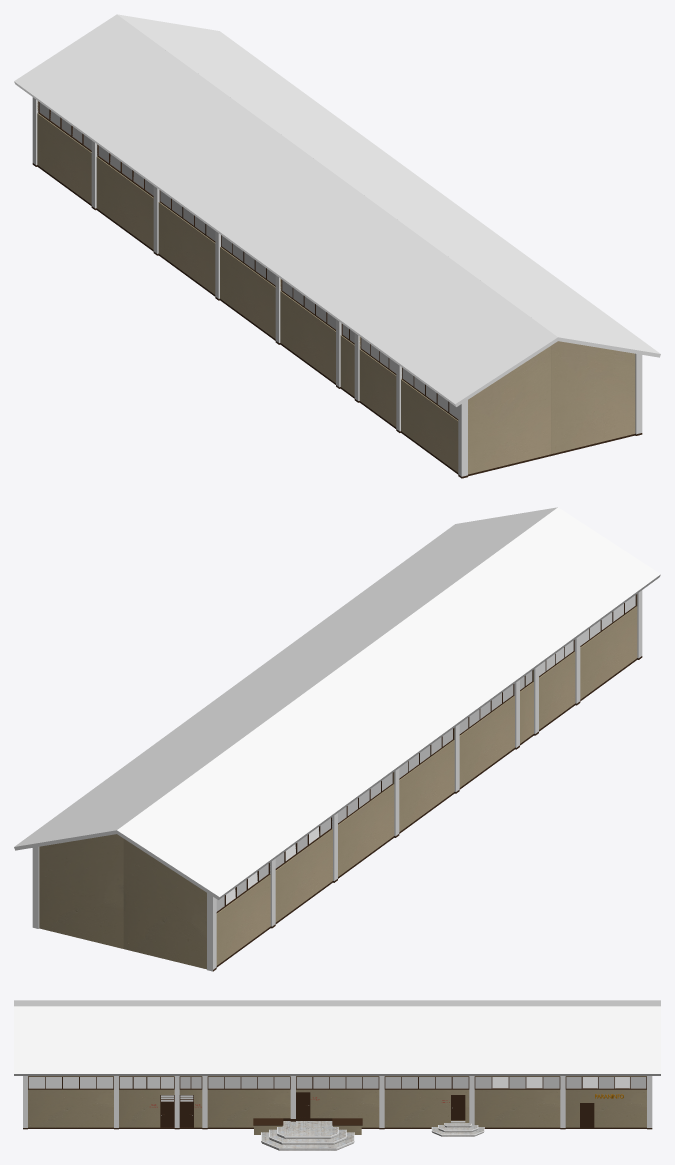
The model's file is salas2-6yParaninfo.fbx.
The picture shows the model from 3 angles, top to bottom: view 1: azimuth 30°, elevation 25°; view 2: azimuth 150°, elevation 25°; view 3: azimuth 270°, elevation 25°; orthographic projection. The views are drawn at different scales.
Visible parts, largest first — view 1: Pared.014, Pared.012, Pared.038, Pared.039, Pared.005, Pared.037, Pared.027, Pared.031, Pared.029, Pared.006, Pared.035, Pared.033 (+5 smaller); view 2: Pared.014, Pared.012, Pared.007, Pared.004, Pared.037, Pared.005, Pared.027, Pared.029, Pared.031, Pared.006, Pared.035, Pared.033 (+5 smaller); view 3: Pared.012, Pared.014, Pared.001, Pared.036, Pared.030, Pared.026, Pared.002, Pared.028, Pared.034, Pared.060, Pared.050, Pared.054 (+26 smaller).
Part boxes in pixels (<box>): Pared.014: <box>14,14,558,406</box>; Pared.012: <box>117,14,660,357</box>; Pared.038: <box>551,341,635,453</box>; Pared.039: <box>468,346,551,474</box>; Pared.005: <box>96,148,153,249</box>; Pared.037: <box>401,378,458,472</box>; Pared.027: <box>158,202,215,294</box>; Pared.031: <box>280,278,335,382</box>; Pared.029: <box>220,247,275,338</box>; Pared.006: <box>37,101,91,204</box>; Pared.035: <box>359,337,396,427</box>; Pared.033: <box>340,335,354,396</box>; Pared.014: <box>116,507,660,899</box>; Pared.012: <box>14,507,557,850</box>; Pared.007: <box>39,834,123,948</box>; Pared.004: <box>123,839,206,969</box>; Pared.037: <box>580,594,637,699</box>; Pared.005: <box>275,820,332,922</box>; Pared.027: <box>338,772,394,876</box>; Pared.029: <box>399,727,454,831</box>; Pared.031: <box>459,696,514,787</box>; Pared.006: <box>216,862,270,965</box>; Pared.035: <box>539,651,575,729</box>; Pared.033: <box>520,669,533,743</box>; Pared.012: <box>14,1006,660,1075</box>; Pared.014: <box>14,1000,660,1006</box>; Pared.001: <box>474,1076,560,1127</box>; Pared.036: <box>28,1076,113,1127</box>; Pared.030: <box>207,1076,290,1127</box>; Pared.026: <box>384,1076,469,1127</box>; Pared.002: <box>565,1076,646,1127</box>; Pared.028: <box>296,1076,379,1127</box>; Pared.034: <box>119,1076,174,1127</box>; Pared.060: <box>28,1076,113,1089</box>; Pared.050: <box>384,1076,469,1089</box>; Pared.054: <box>207,1076,290,1089</box>.
Bounding box in the file's own units: 1494 × 696 × 4500.
